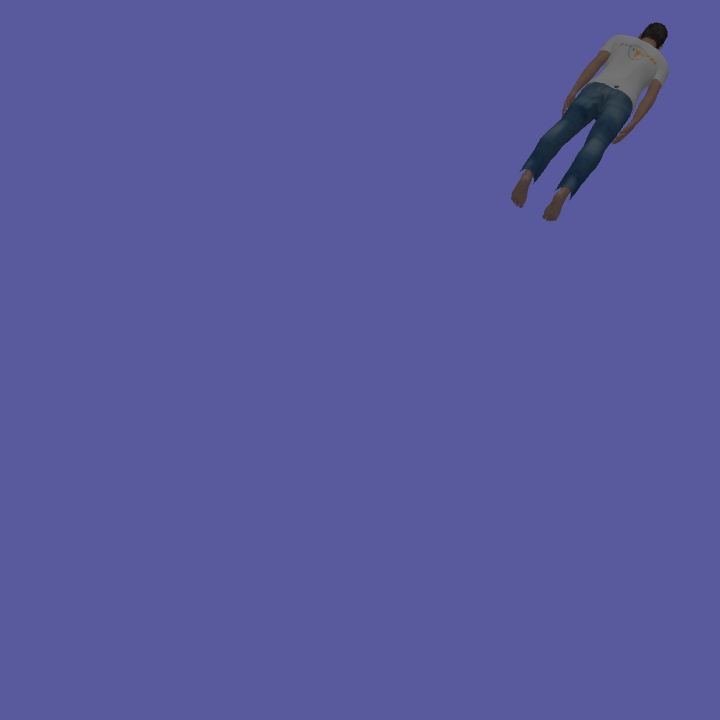victim: (506, 18, 673, 227)
